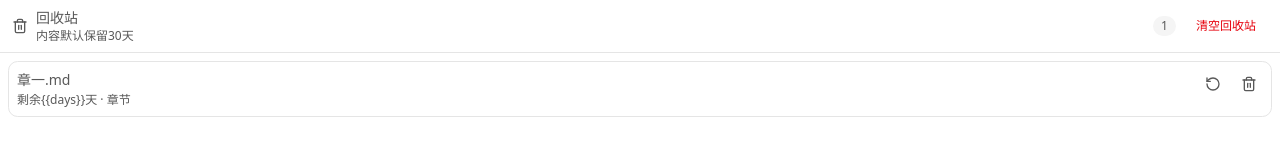
Test: TrashPanel › 恢复条目：刷新列表、目录、bump 版本并跳转 wiki 视图
This screenshot has width=1280, height=160.
What coordinates should you click on to do the following:
click the button titled "恢复到原位置；如原位置已有同名文件，会自动改名恢复"
I would click on:
 (1213, 84)
Its box is [1199,70,1227,98].
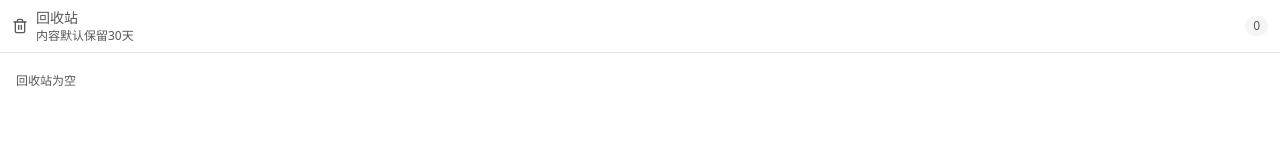
expect the text "回收站为空" is shown: met, box [16,72,76,89]
